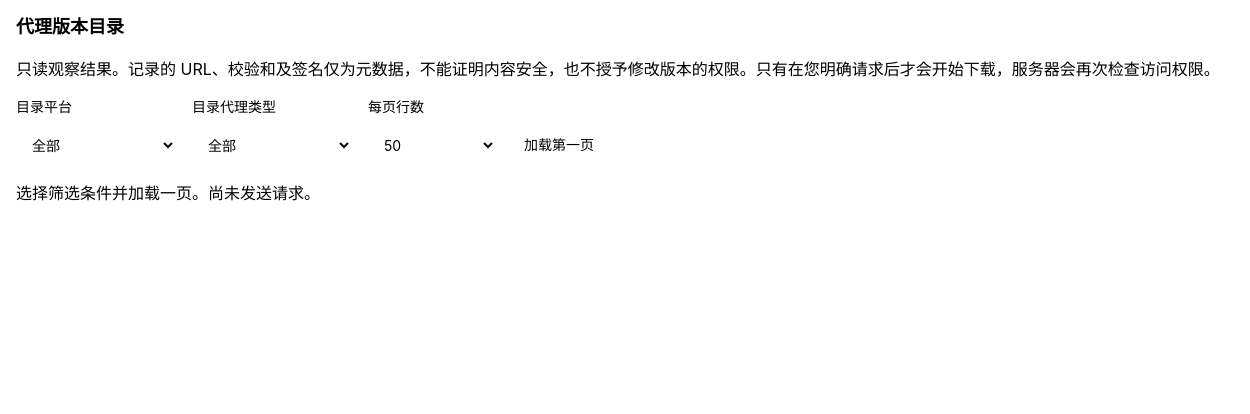
Scenario: uses complete zh labels and renders an empty validated page
Expected: the heading "代理版本目录" is shown, [16, 16, 124, 37]
Step 1. Click the button "加载第一页" → (559, 145), box [512, 125, 606, 165]
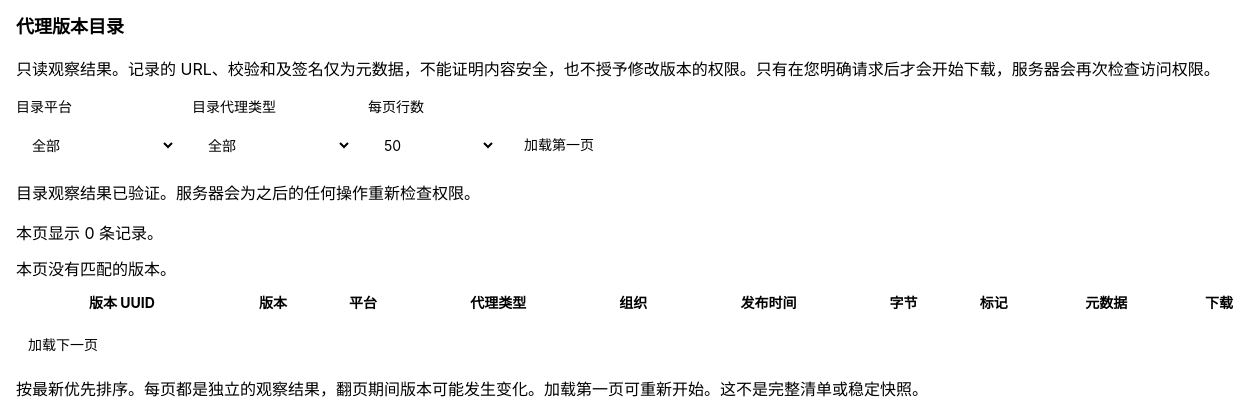
Now the text "本页没有匹配的版本。" is shown, box [16, 259, 176, 279]
Now the button "加载下一页" is disabled, box [16, 325, 110, 365]
